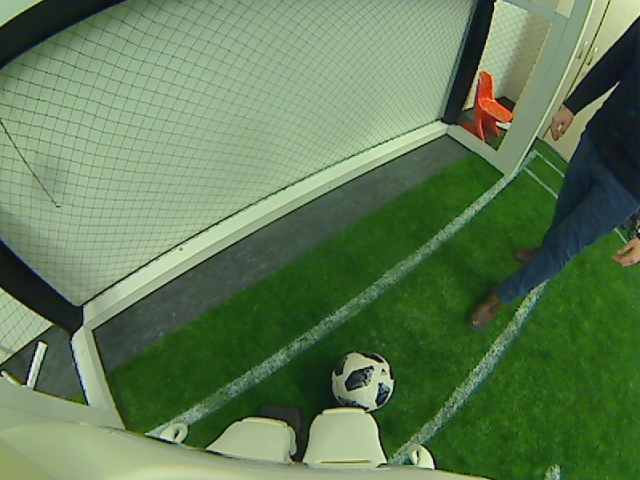ball: (329, 346, 394, 415)
